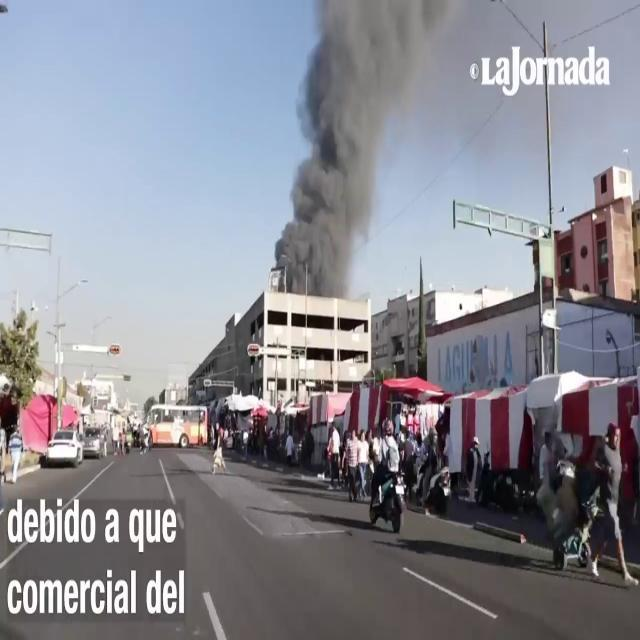Smoke: (272, 0, 420, 292)
